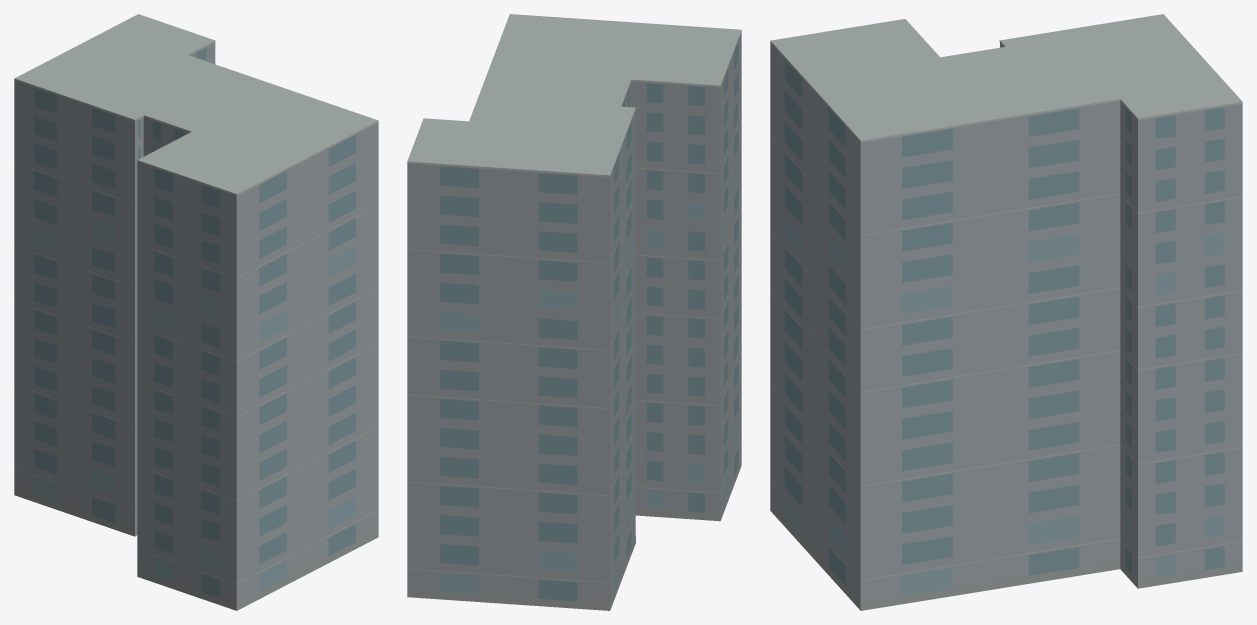
File: residential-6a2cce97-dc6a-48d1-ae2b-5ad2893a0445.glb
3 views of the same model, side by side, from view 1: azimuth 30°, elevation 25°; view 2: azimuth 150°, elevation 25°; view 3: azimuth 270°, elevation 25° (orthographic). The views are drawn at different scales.
Parts seen in each view (by area): view 1: residential-6a2cce97-dc6a-48d1-ae2b-5ad2893a0445.tmp; view 2: residential-6a2cce97-dc6a-48d1-ae2b-5ad2893a0445.tmp; view 3: residential-6a2cce97-dc6a-48d1-ae2b-5ad2893a0445.tmp.
Part boxes in pixels (<box>): residential-6a2cce97-dc6a-48d1-ae2b-5ad2893a0445.tmp: <box>14,14,378,610</box>; residential-6a2cce97-dc6a-48d1-ae2b-5ad2893a0445.tmp: <box>407,14,741,610</box>; residential-6a2cce97-dc6a-48d1-ae2b-5ad2893a0445.tmp: <box>770,14,1242,610</box>.
Size of the model in its own units: 32.96 by 57 by 51.89.
